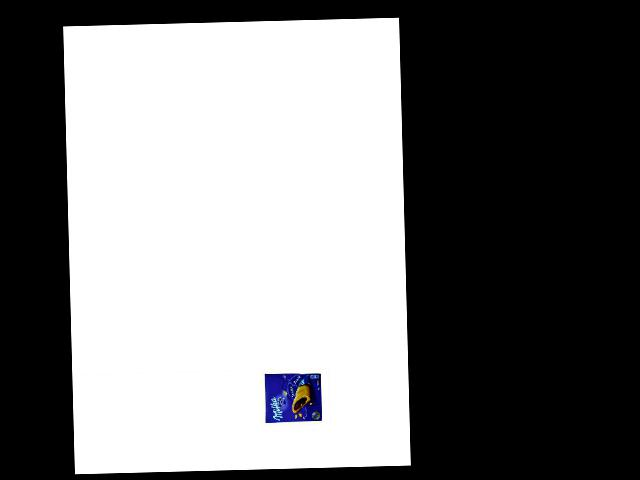chocolate: (260, 370, 326, 425)
